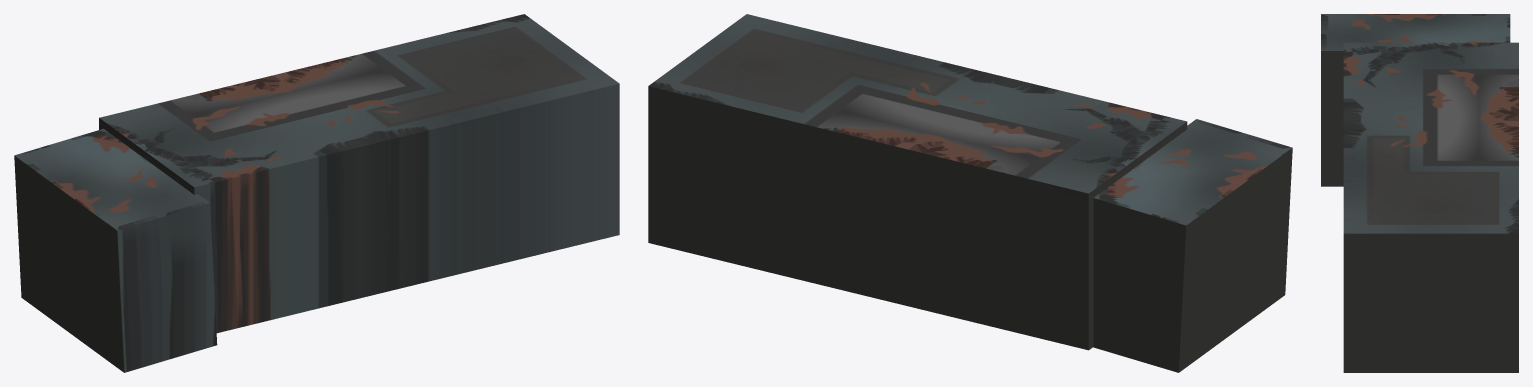
File: Building_AncientTableMachining.obj
3 renders of one model, left to right at view 1: azimuth 30°, elevation 25°; view 2: azimuth 150°, elevation 25°; view 3: azimuth 270°, elevation 25°, orthographic. The views are drawn at different scales.
Visible parts, largest first — view 1: Body; view 2: Body; view 3: Body.
Boxes of the visible parts, bbox=[...] form: Body: bbox=[14, 14, 619, 372]; Body: bbox=[648, 14, 1292, 372]; Body: bbox=[1321, 14, 1518, 372].
Bounding box in the file's own units: 3.03 × 0.8786 × 1.09.
Materials: 1 (1 with a texture image).
